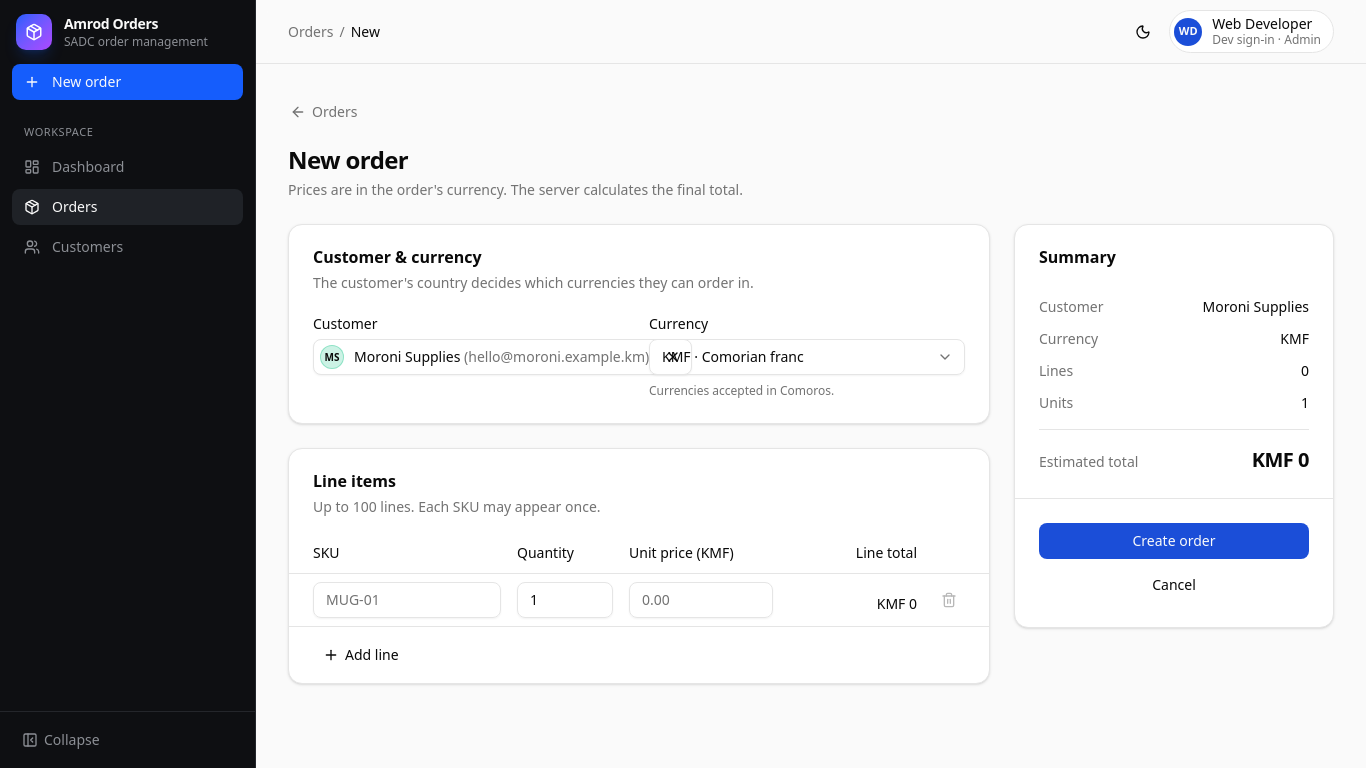
Test: New order form › rejects decimals a currency doesn't have, and duplicate SKUs, before sending
The width and height of the screenshot is (1366, 768).
Expected: the dropdown labelled "Currency" shows "KMF · Comorian franc", [649,339,965,375]
Type "rice-5kg" into the field named "Line 1 SKU" at coordinates (407, 600), box [313,582,501,618]
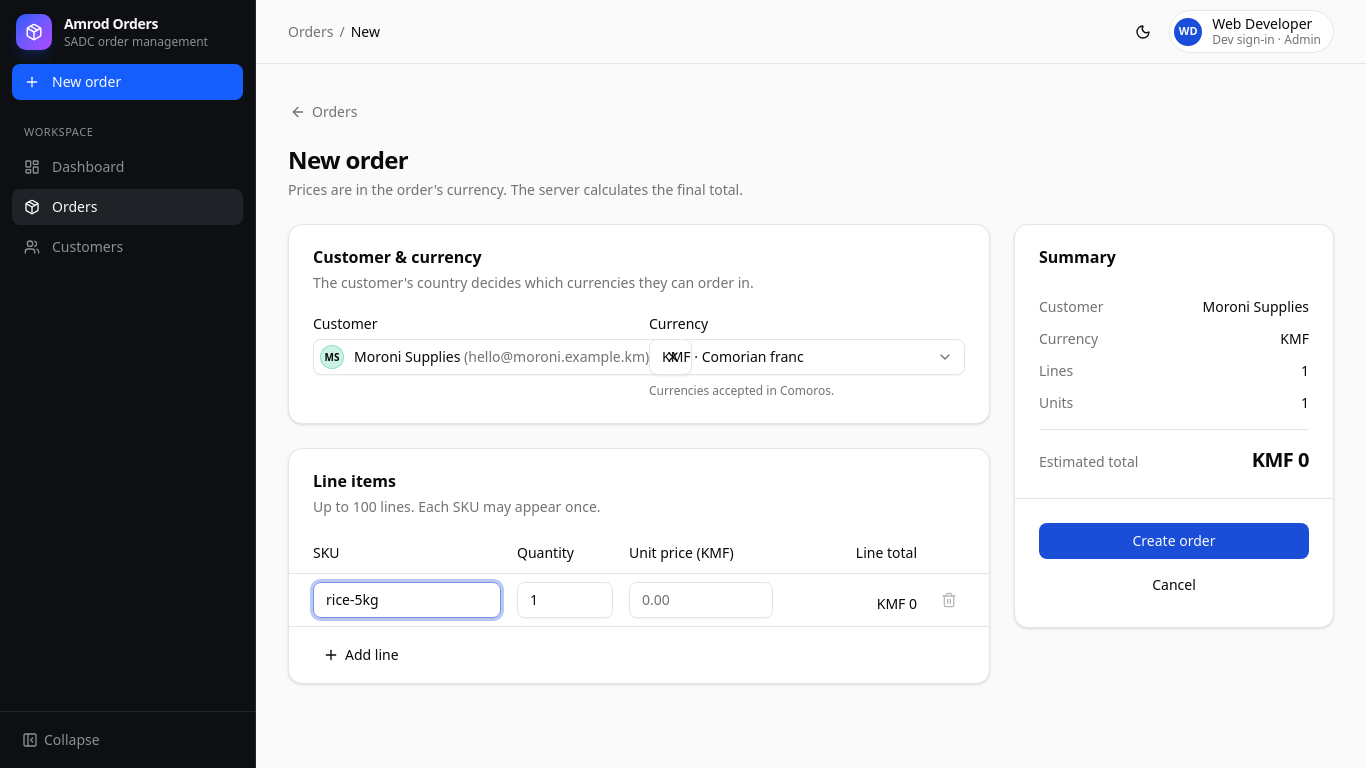
Type "1500.50" into the field named "Line 1 unit price" at coordinates (701, 600), box [629,582,773,618]
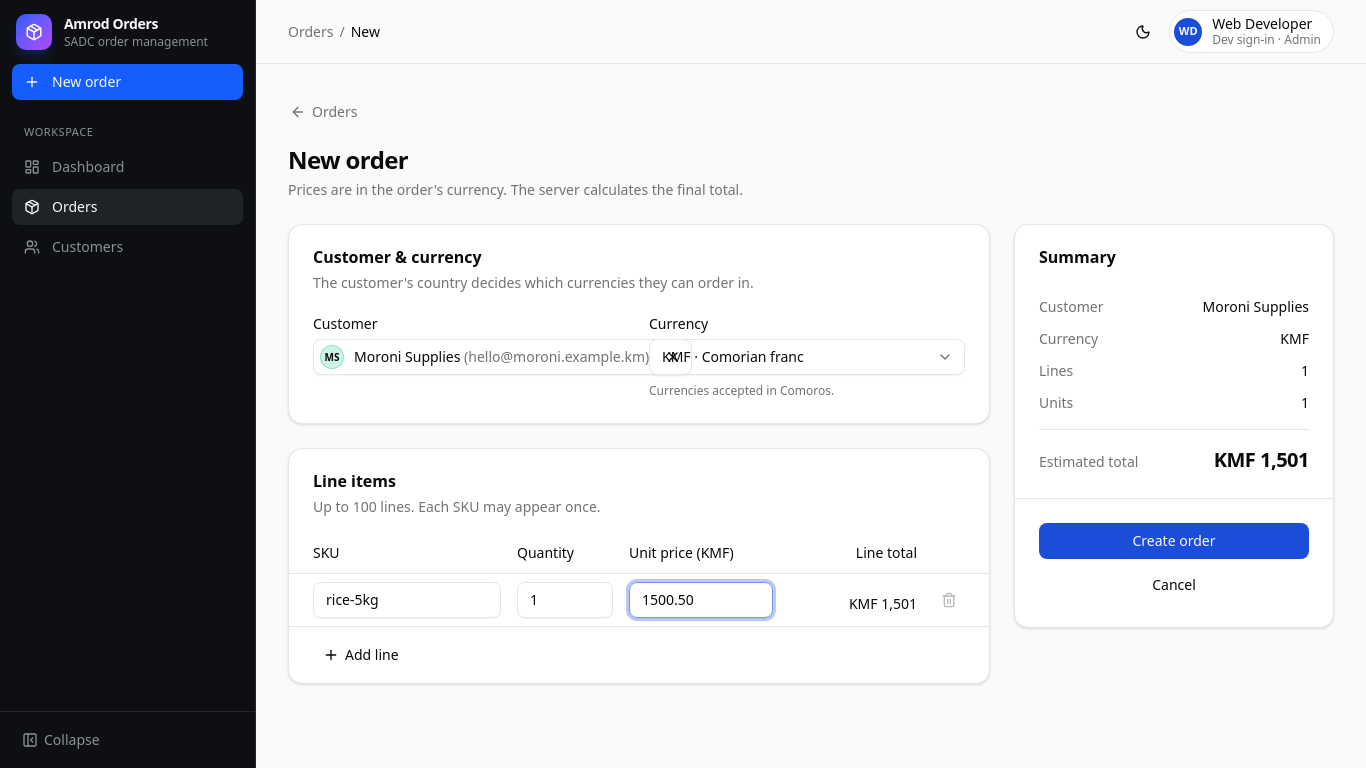
Click the button "Add line" at coordinates (361, 654), box [313,638,409,670]
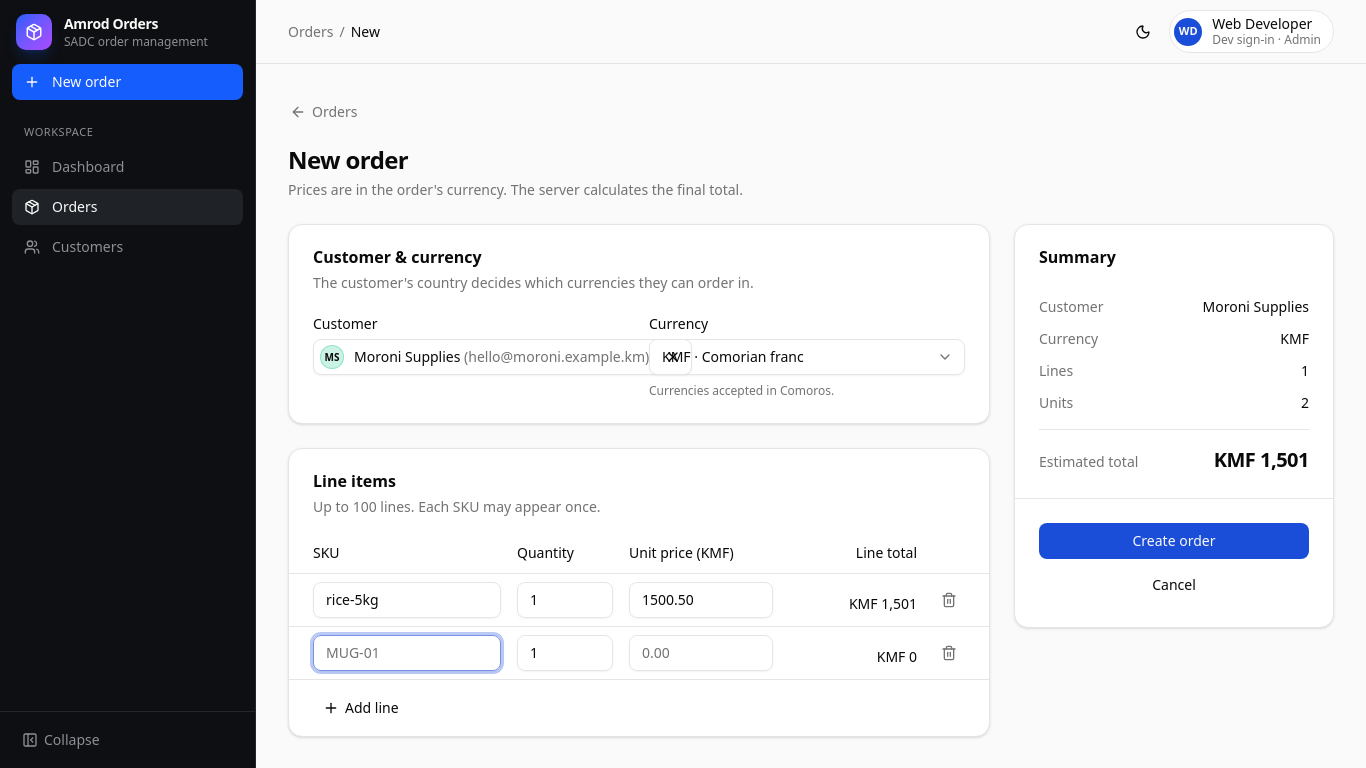
Type "RICE-5KG" into the field named "Line 2 SKU" at coordinates (407, 652), box [313,634,501,670]
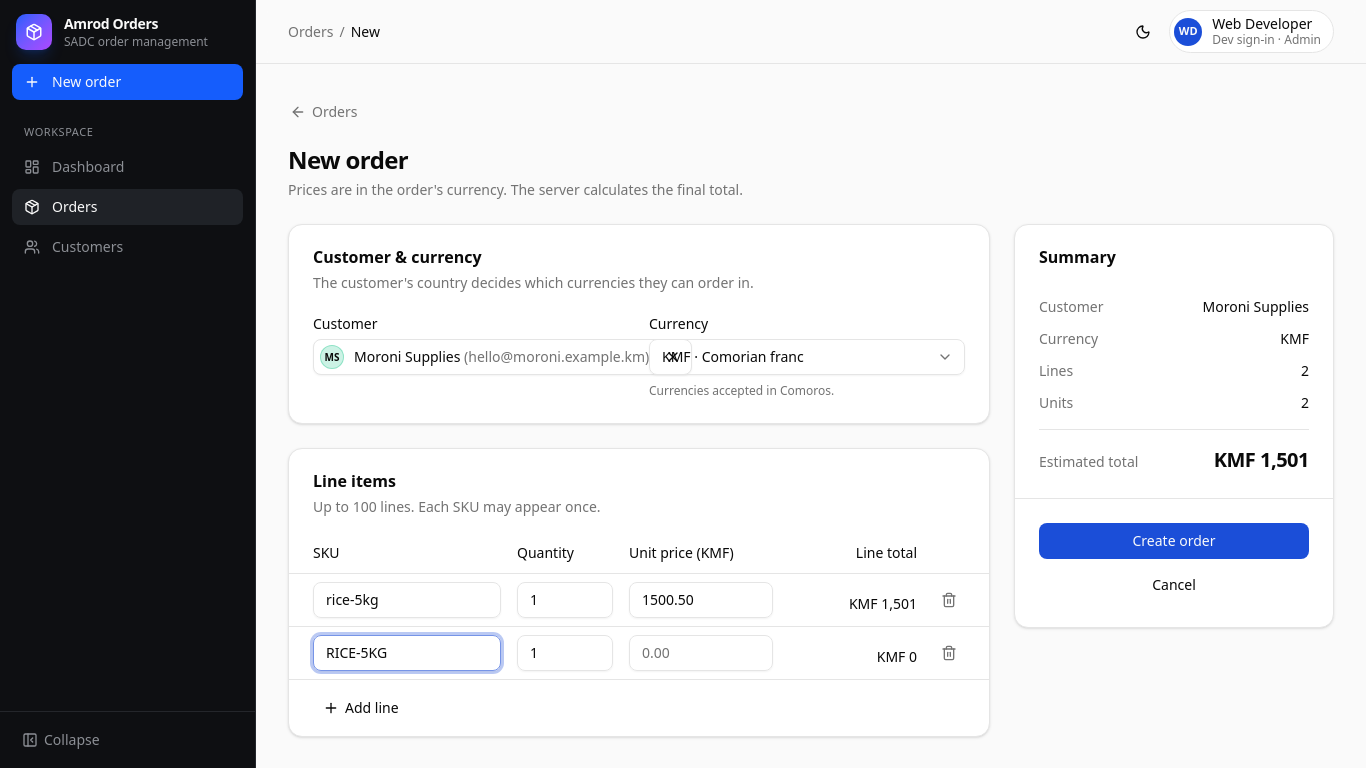
Type "1500" into the field named "Line 2 unit price" at coordinates (701, 652), box [629,634,773,670]
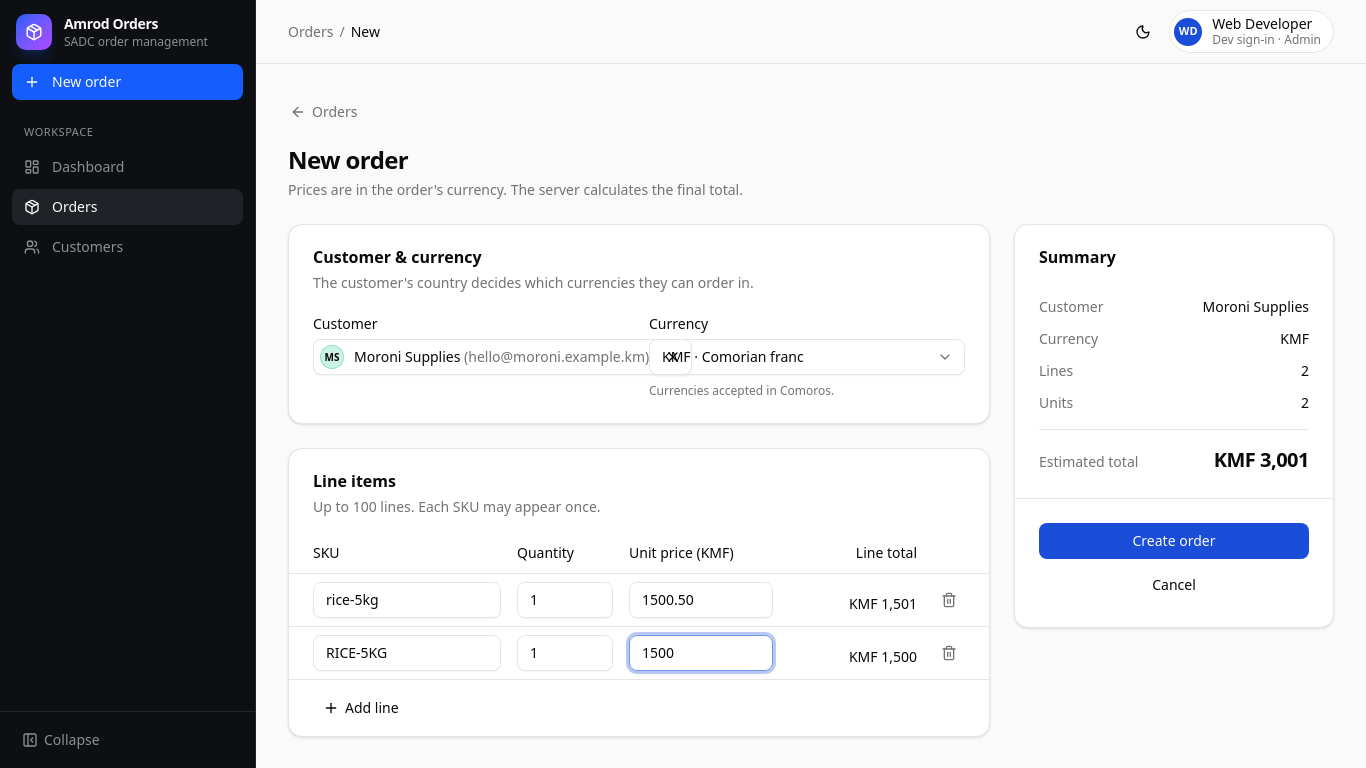
Click the button "Create order" at coordinates (1174, 541), box [1039,523,1309,559]
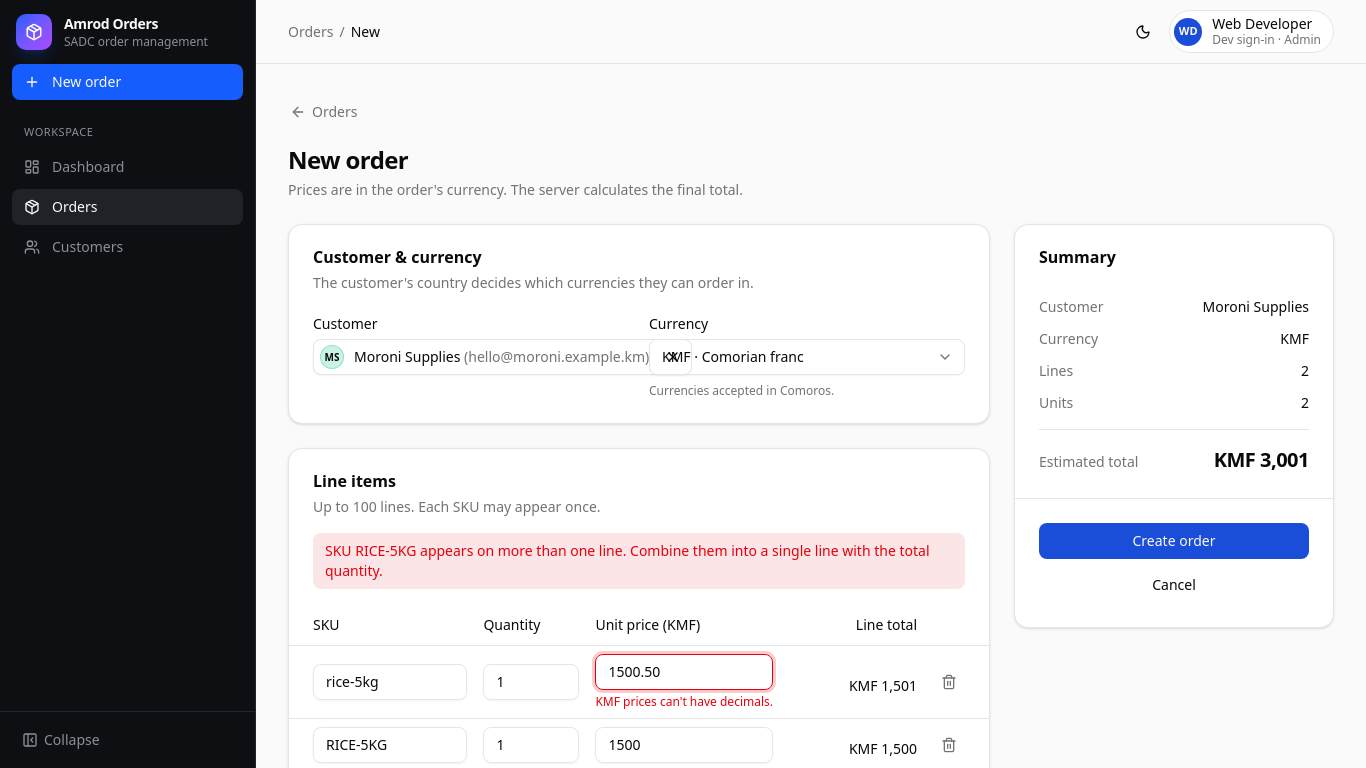
Expected: the text "SKU RICE-5KG appears on more than one line" is shown, [325,541,930,580]
